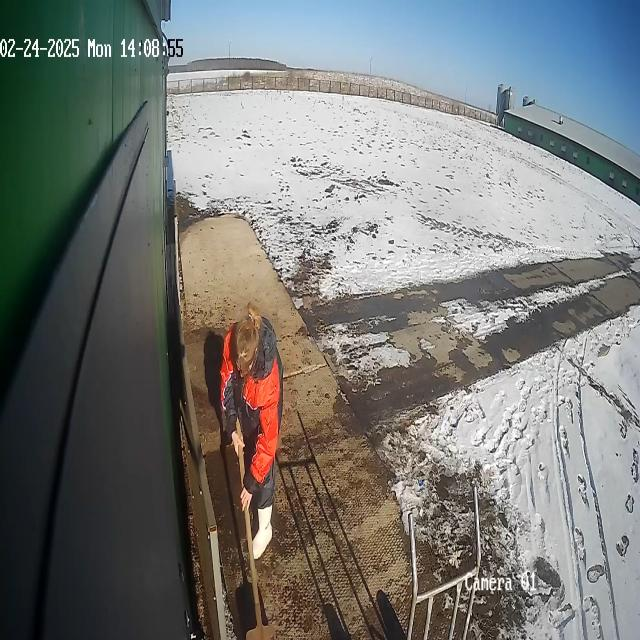Red uniform: (217, 306, 285, 562)
